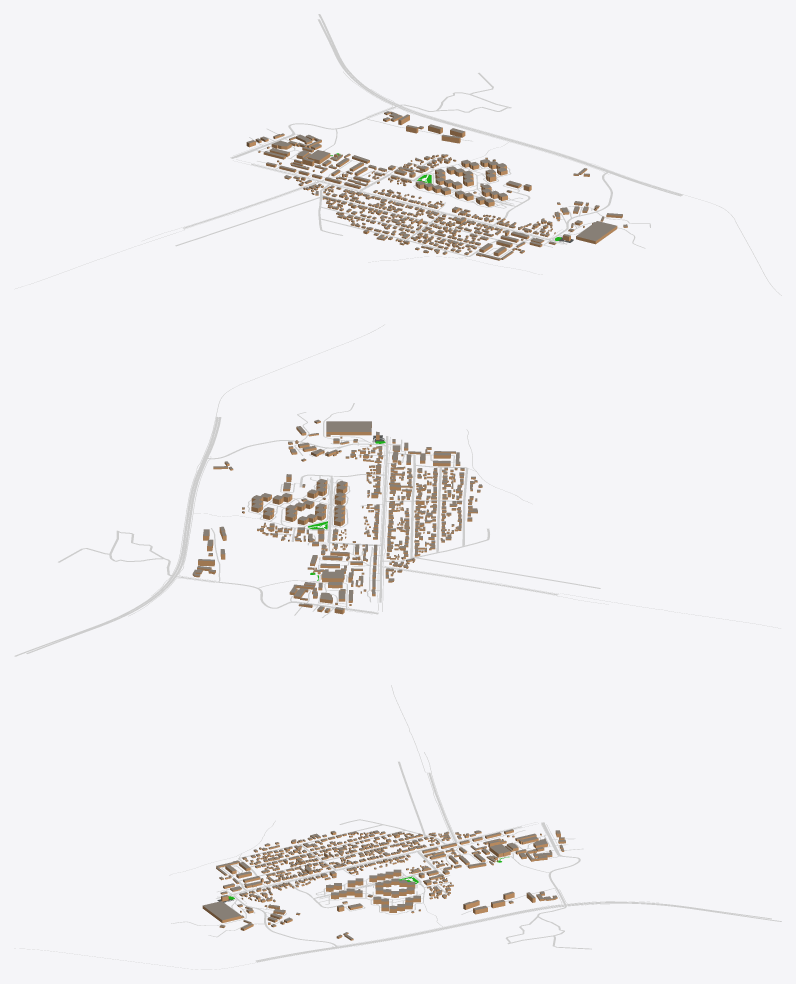
File: Dunina_Blosm.fbx
3 views of the same model, one above another, from view 1: azimuth 30°, elevation 25°; view 2: azimuth 150°, elevation 25°; view 3: azimuth 270°, elevation 25° (orthographic). The views are drawn at different scales.
Parts seen in each view (by area): view 1: dunina.osm_buildings, dunina.osm_paths_footway_surface, dunina.osm_roads_service_surface, dunina.osm_roads_residential_surface, dunina.osm_roads_primary_surface, dunina.osm_roads_secondary_surface; view 2: dunina.osm_buildings, dunina.osm_paths_footway_surface, dunina.osm_roads_service_surface, dunina.osm_roads_residential_surface, dunina.osm_roads_primary_surface, dunina.osm_roads_secondary_surface; view 3: dunina.osm_buildings, dunina.osm_paths_footway_surface, dunina.osm_roads_service_surface, dunina.osm_roads_primary_surface, dunina.osm_roads_residential_surface, dunina.osm_roads_secondary_surface.
Part boxes in pixels (<box>): dunina.osm_buildings: <box>246,111,627,260</box>; dunina.osm_paths_footway_surface: <box>14,71,781,295</box>; dunina.osm_roads_service_surface: <box>249,118,650,257</box>; dunina.osm_roads_residential_surface: <box>175,158,567,256</box>; dunina.osm_roads_primary_surface: <box>317,14,682,196</box>; dunina.osm_roads_secondary_surface: <box>230,106,612,239</box>; dunina.osm_buildings: <box>192,419,482,614</box>; dunina.osm_paths_footway_surface: <box>128,324,780,628</box>; dunina.osm_roads_service_surface: <box>211,403,454,617</box>; dunina.osm_roads_residential_surface: <box>268,436,600,588</box>; dunina.osm_roads_primary_surface: <box>14,416,221,656</box>; dunina.osm_roads_secondary_surface: <box>176,440,388,614</box>; dunina.osm_buildings: <box>202,829,565,940</box>; dunina.osm_paths_footway_surface: <box>14,685,658,969</box>; dunina.osm_roads_service_surface: <box>171,830,583,937</box>; dunina.osm_roads_primary_surface: <box>255,901,781,962</box>; dunina.osm_roads_residential_surface: <box>216,761,450,908</box>; dunina.osm_roads_secondary_surface: <box>233,822,580,946</box>.
Size of the model in its own units: 220666 by 1766 by 251379.
